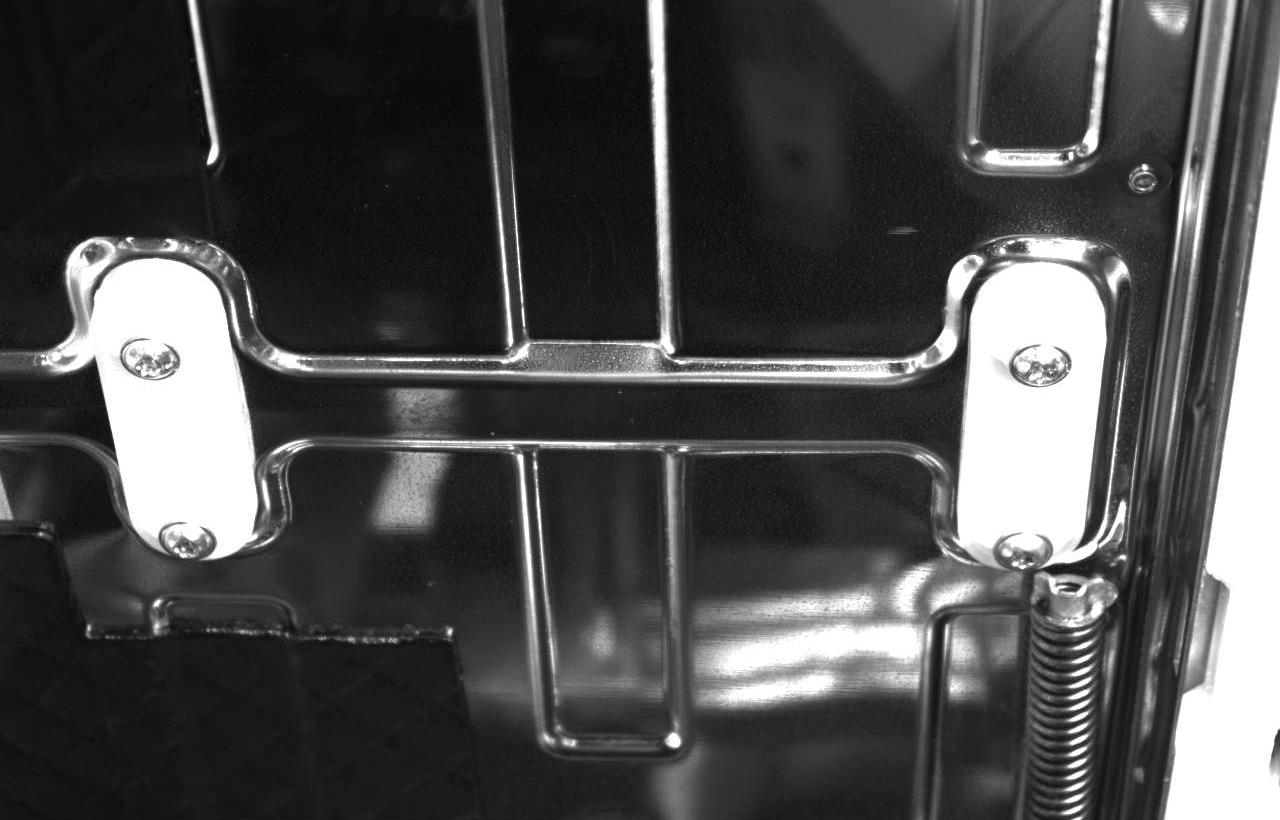vida-ok: (109, 319, 196, 397), (987, 324, 1075, 397), (150, 506, 231, 570), (982, 525, 1057, 583)
